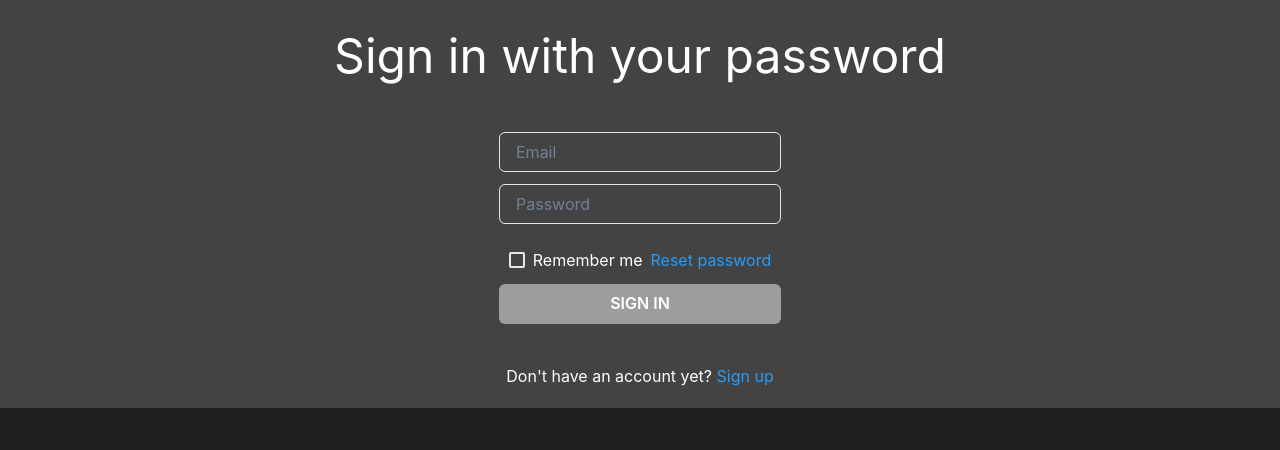
Test: Login component › checks if error message is shown on incorrect input
This screenshot has width=1280, height=450.
Type "incorrectCredential@email.com" into the field with placeholder "Email" at (640, 152), box x1=499 y1=132 x2=781 y2=172
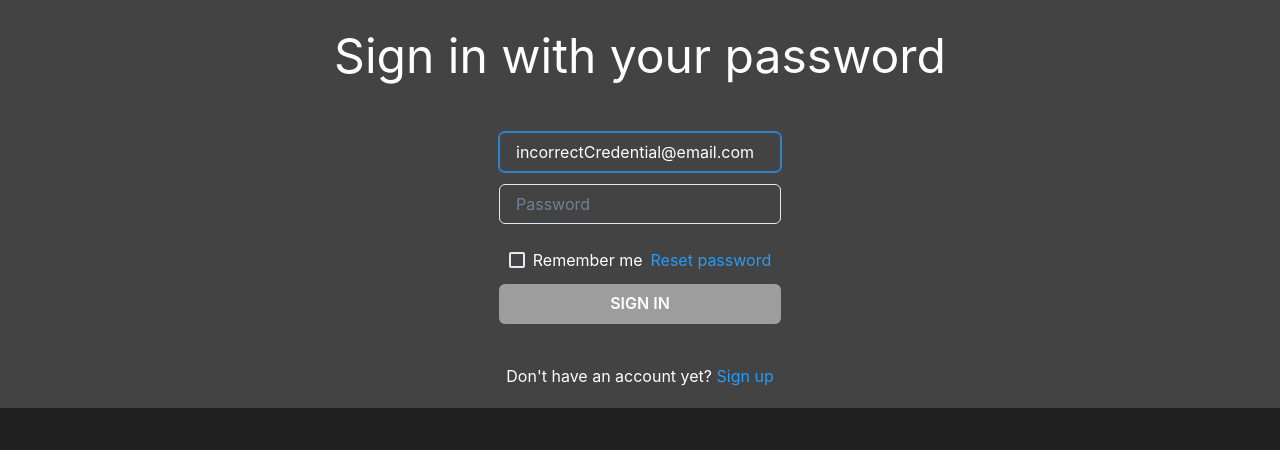
Type "incorrectPassword" into the password field with placeholder "Password" at (640, 204), box x1=499 y1=184 x2=781 y2=224
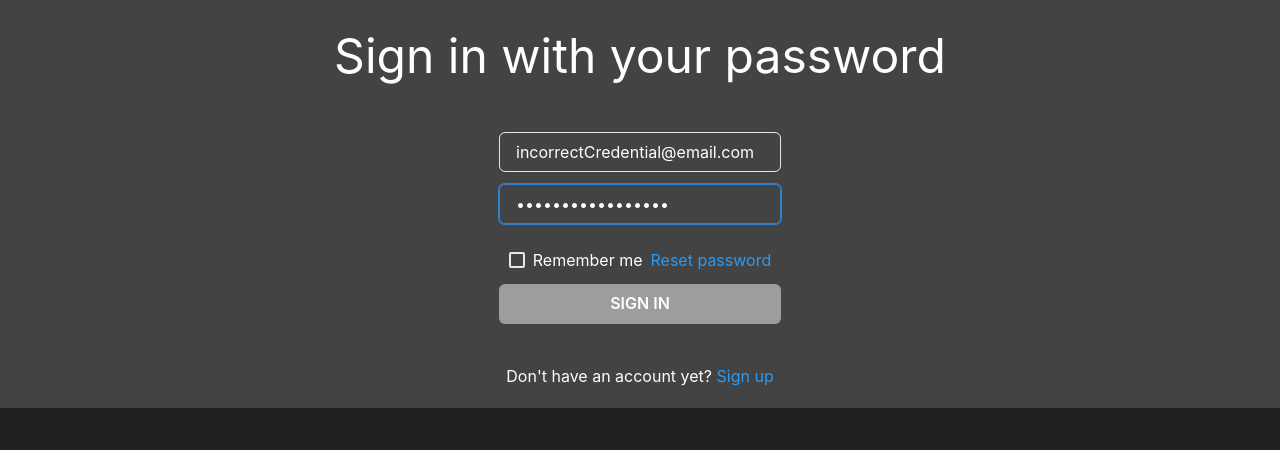
Click the button "Sign in" at (640, 304), box x1=499 y1=284 x2=781 y2=324
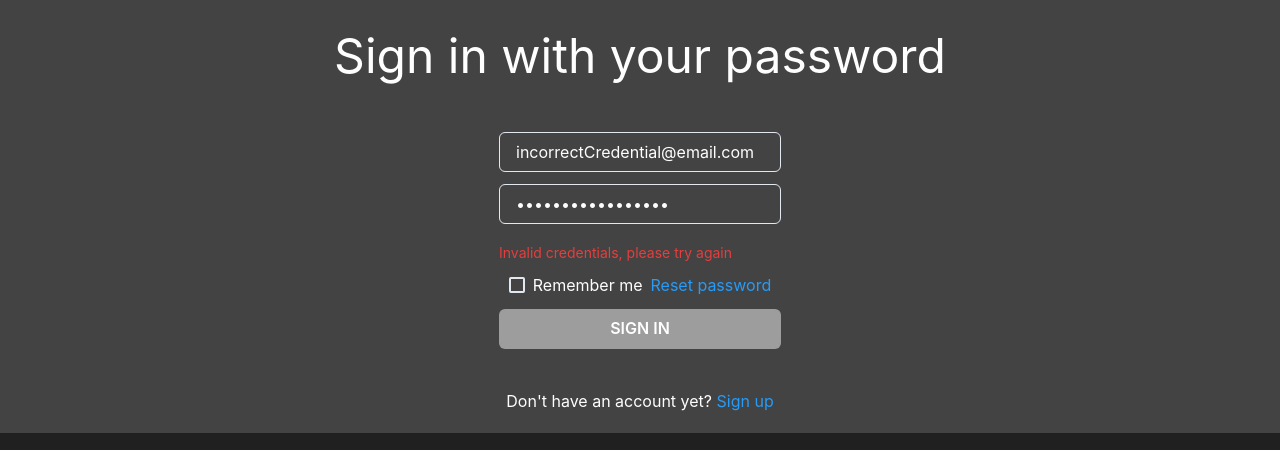
Now the text "Invalid credentials, please try again" is shown, box x1=499 y1=244 x2=732 y2=261
